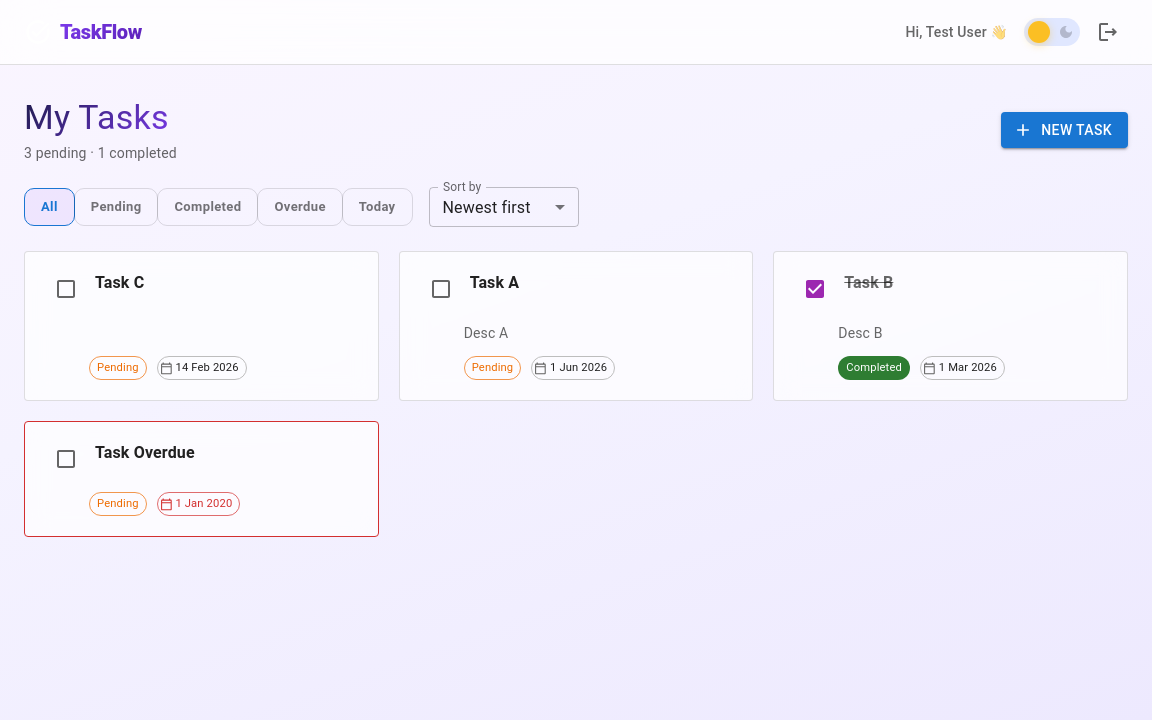
Test: DashboardPage › filters to show only pending tasks
Click the button "Pending" at [116, 207], box [74,188,158,226]
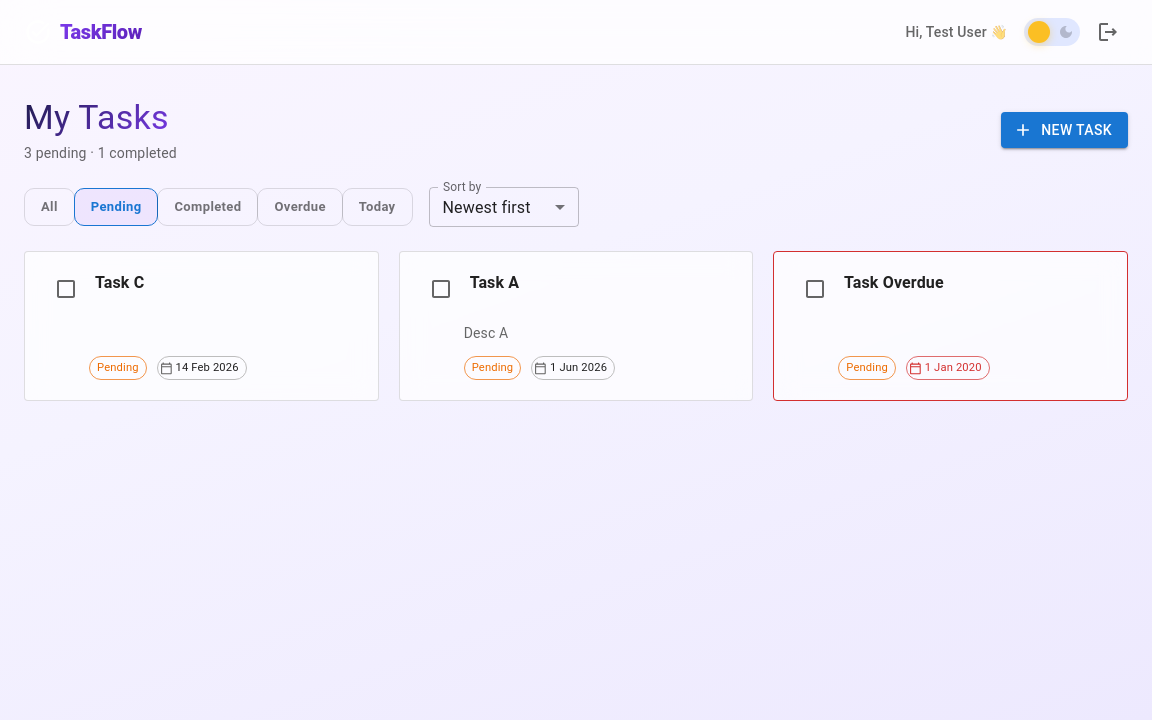
Expected: the text "Task A" is shown, [470,273,519,292]
Expected: the text "Task B" is gone
